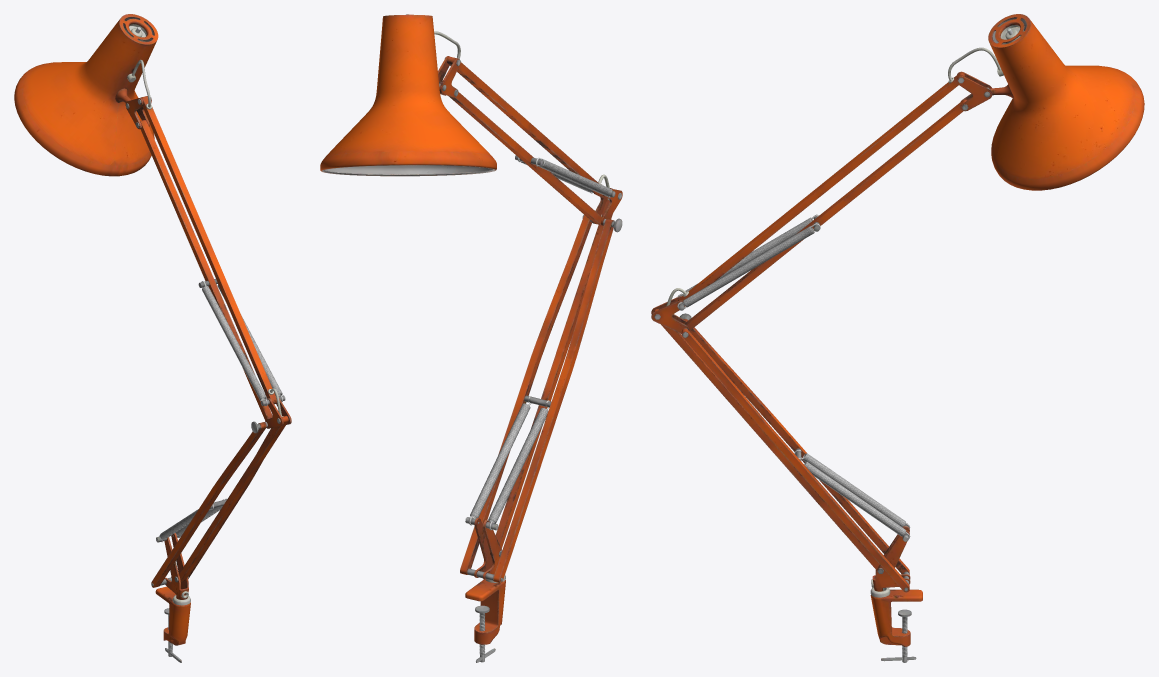
The model's file is desk_lamp_arm_01.glb.
The picture shows the model from 3 angles, left to right: view 1: azimuth 30°, elevation 25°; view 2: azimuth 150°, elevation 25°; view 3: azimuth 270°, elevation 25°; orthographic projection. The views are drawn at different scales.
Visible parts, largest first — view 1: desk_lamp_arm_01; view 2: desk_lamp_arm_01; view 3: desk_lamp_arm_01.
Part boxes in pixels (x1=…): desk_lamp_arm_01: x1=14, y1=14, x2=291, y2=662; desk_lamp_arm_01: x1=320, y1=14, x2=622, y2=662; desk_lamp_arm_01: x1=651, y1=14, x2=1144, y2=662.
Bounding box in the file's own units: 0.2017 × 0.8926 × 0.6139.
Materials: 2 (2 with a texture image).
